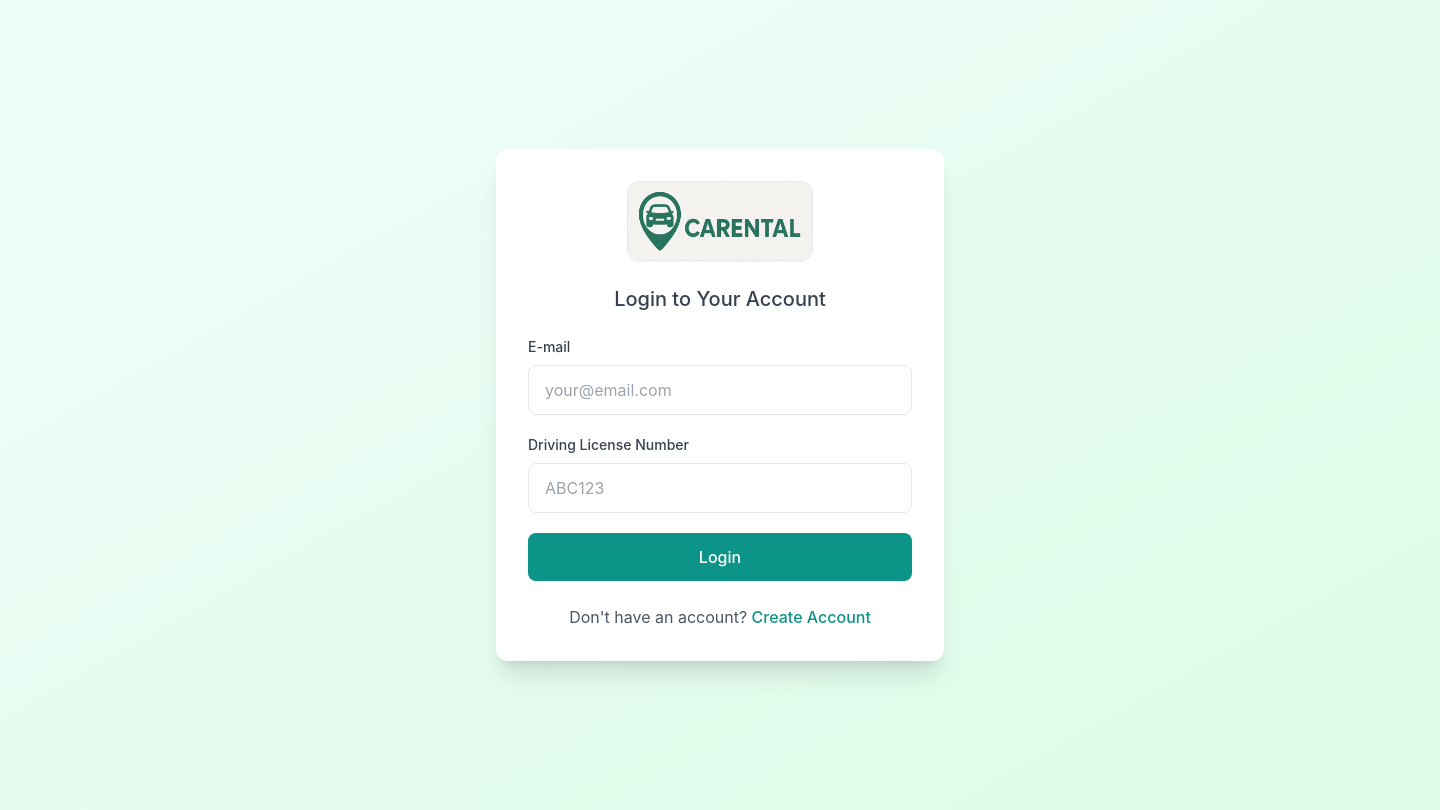
LoginPage › opens registration modal when "Create Account" is clicked
The image size is (1440, 810).
Click on create account button
Click the button "Create Account" at [811, 617], box [752,605,871,629]
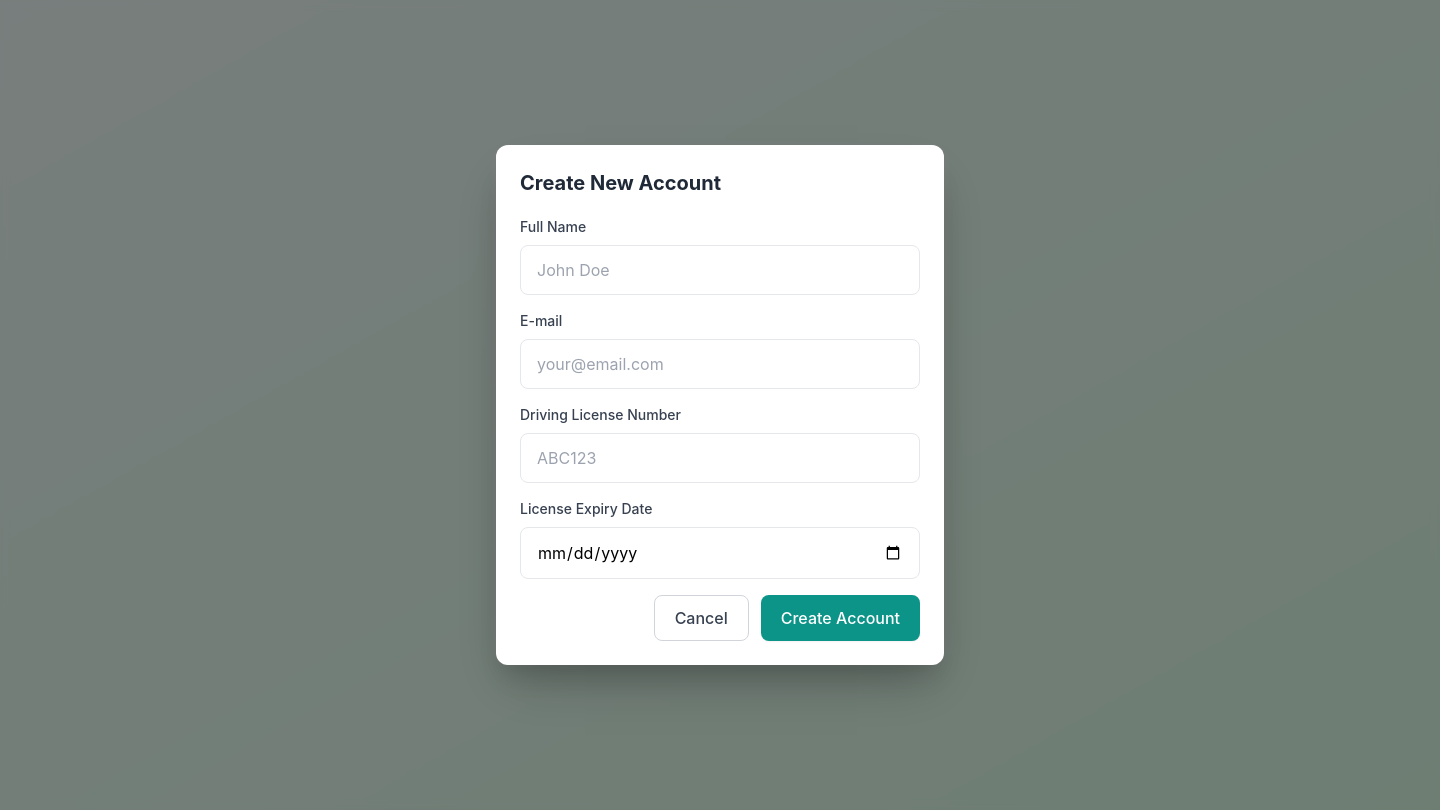
Now the heading "Create New Account" is shown, box [520,171,721,195]
Now the field labelled "Full Name" is shown, box [520,245,920,295]
Now the date field labelled "License Expiry Date" is shown, box [520,527,920,579]
